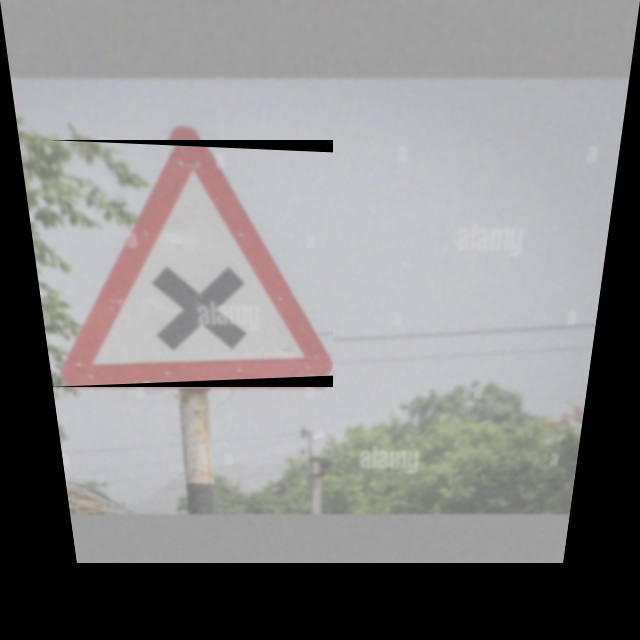Cross_Road: (48, 140, 333, 387)
